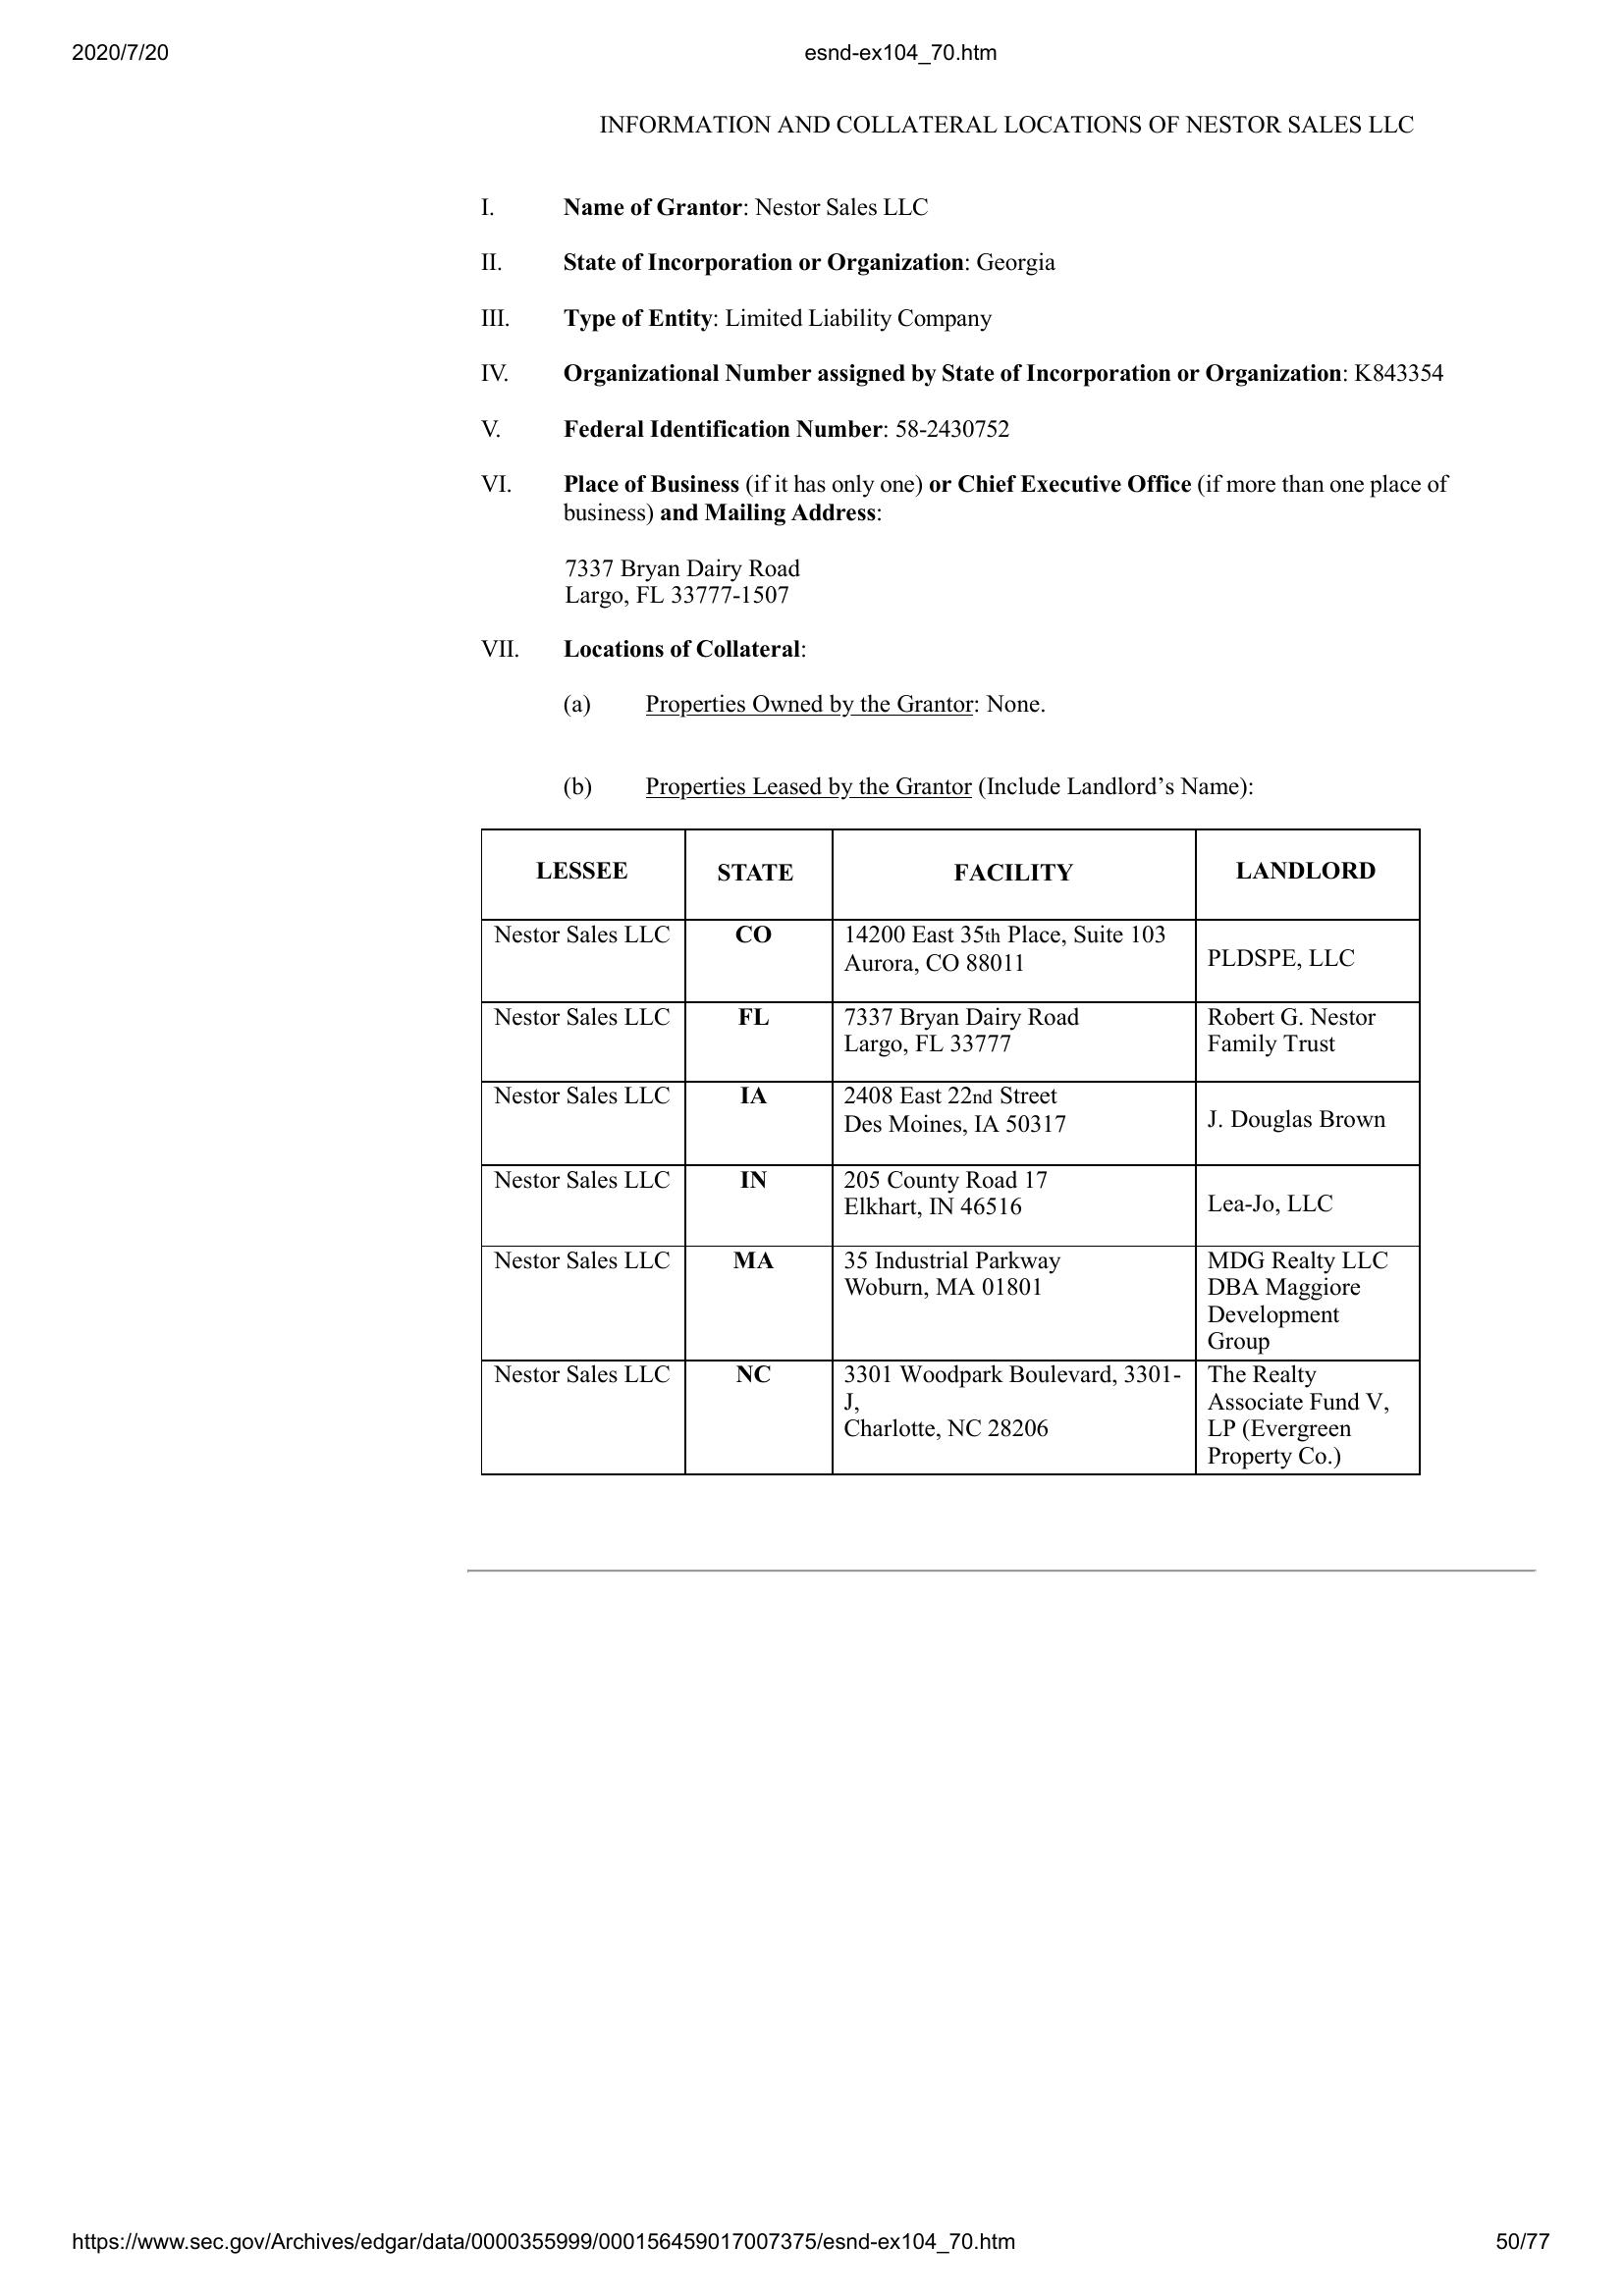table: (481, 829, 1430, 1482)
